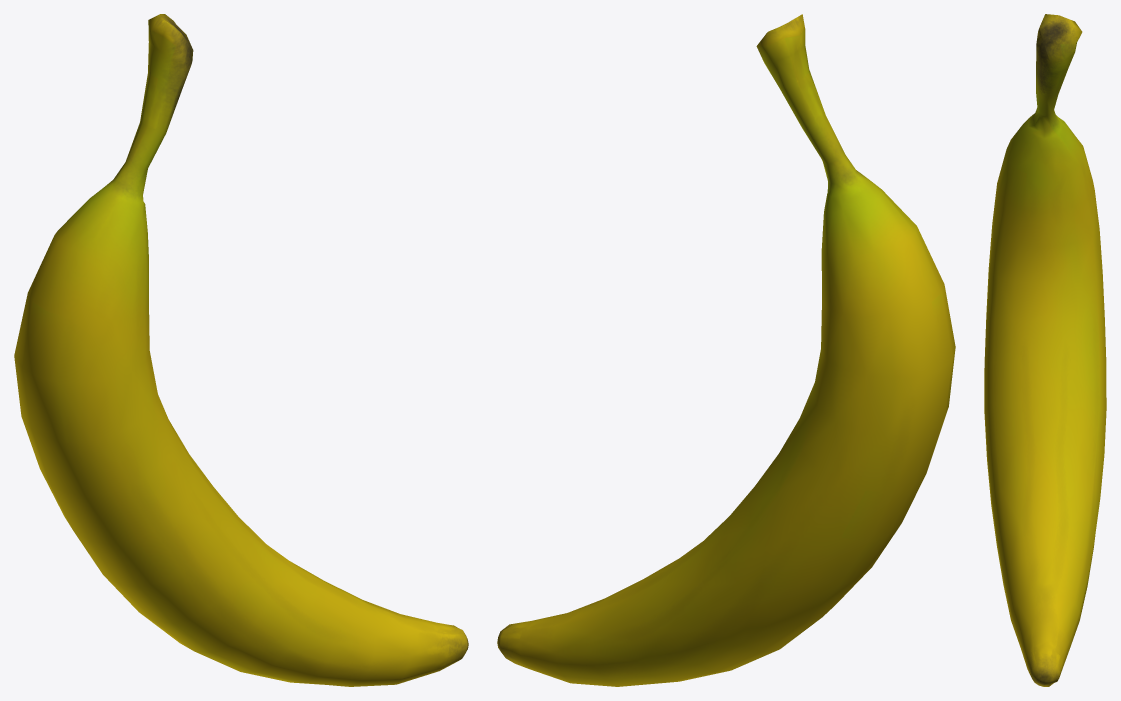
The model's file is banana.gltf.
3 views of the same model, side by side, from view 1: azimuth 30°, elevation 25°; view 2: azimuth 150°, elevation 25°; view 3: azimuth 270°, elevation 25° (orthographic). The views are drawn at different scales.
Visible parts, largest first — view 1: banana_low_Banana_0; view 2: banana_low_Banana_0; view 3: banana_low_Banana_0.
Part boxes in pixels (left/top/right/bottom): banana_low_Banana_0: left=14, top=14, right=468, bottom=686; banana_low_Banana_0: left=497, top=14, right=955, bottom=686; banana_low_Banana_0: left=984, top=14, right=1106, bottom=686.
Bounding box in the file's own units: 10.18 × 15.78 × 3.09.
1 material, 1 textured.
